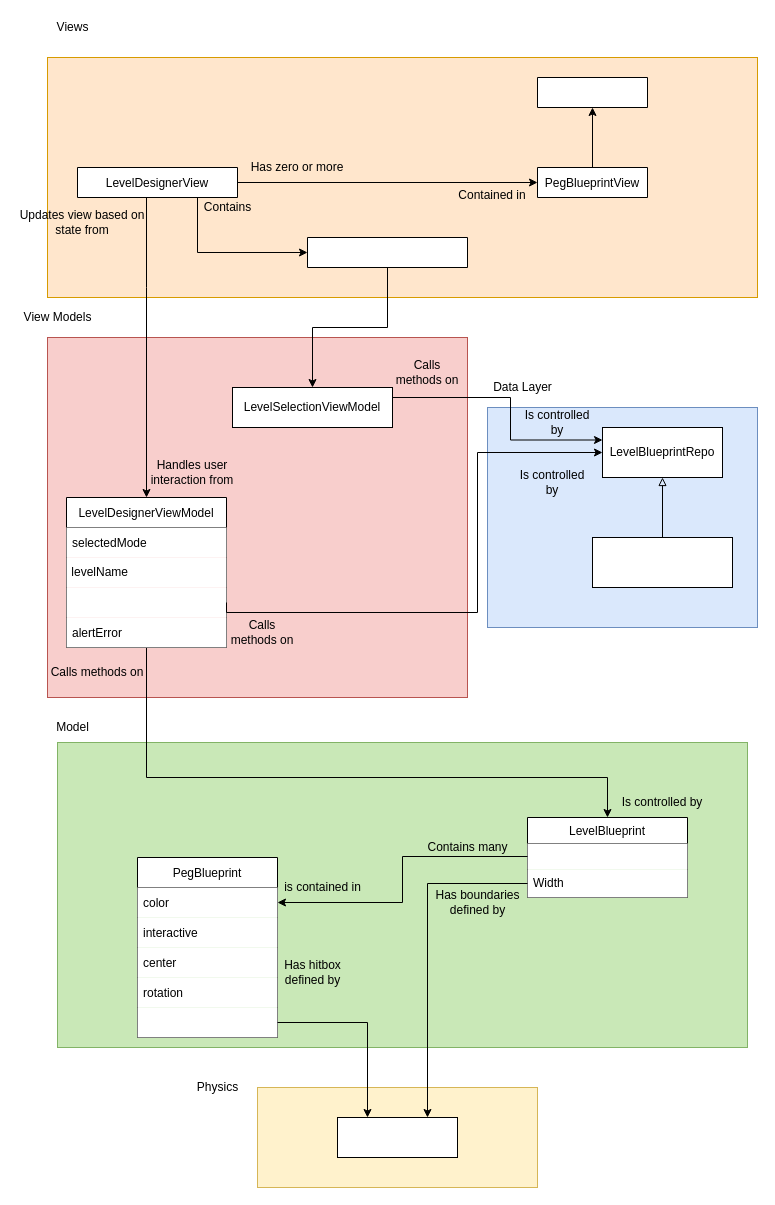
Some shapes in this 775 by 1205 pixel diagram are drawn without their labels. Each missing label, with the centre of its shape:
"EditPegView" goes at point 592,92.
"Geometry" goes at point 397,1137.
"Height" goes at point 607,856.
"LevelBlueprintFileRepo" goes at point 662,562.
"LevelSelectionView" goes at point 387,252.
"presentAlert" goes at point 146,602.
"scale" goes at point 207,1022.
